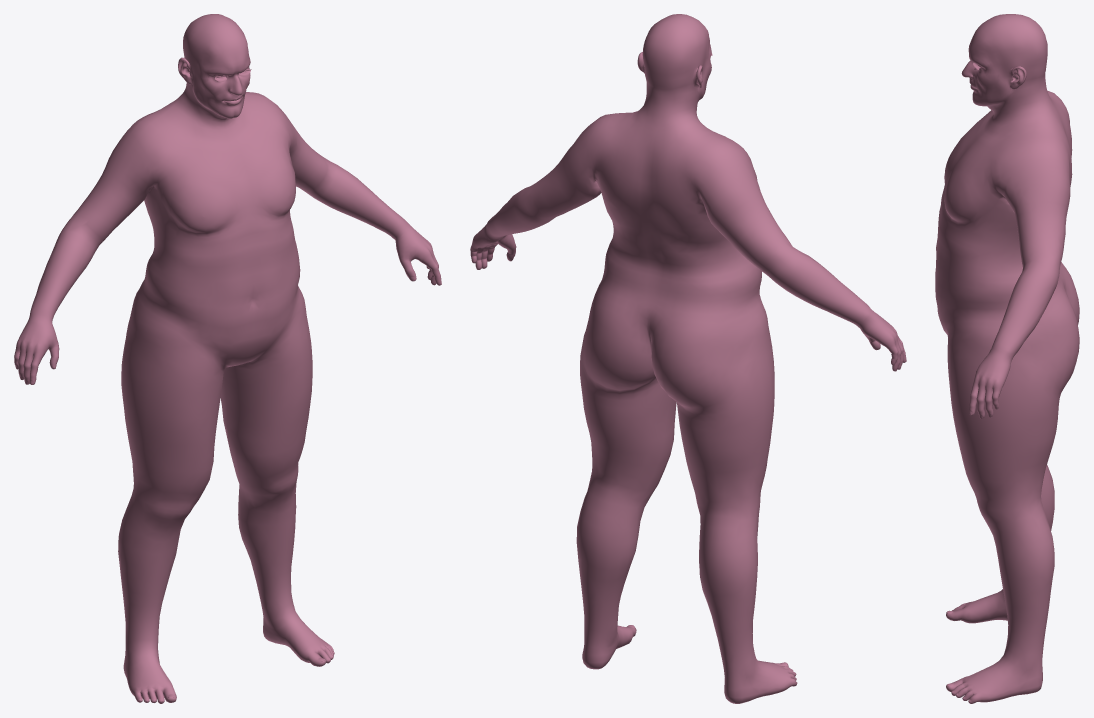
The model's file is pos1.glb.
The picture shows the model from 3 angles, left to right: view 1: azimuth 30°, elevation 25°; view 2: azimuth 150°, elevation 25°; view 3: azimuth 270°, elevation 25°; orthographic projection. The views are drawn at different scales.
Parts seen in each view (by area): view 1: f_mana; view 2: f_mana; view 3: f_mana.
Part boxes in pixels (bbox=[...]): f_mana: bbox=[14, 14, 441, 703]; f_mana: bbox=[470, 14, 906, 703]; f_mana: bbox=[935, 14, 1079, 703].
Size of the model in its own units: 122 by 181 by 36.88.
